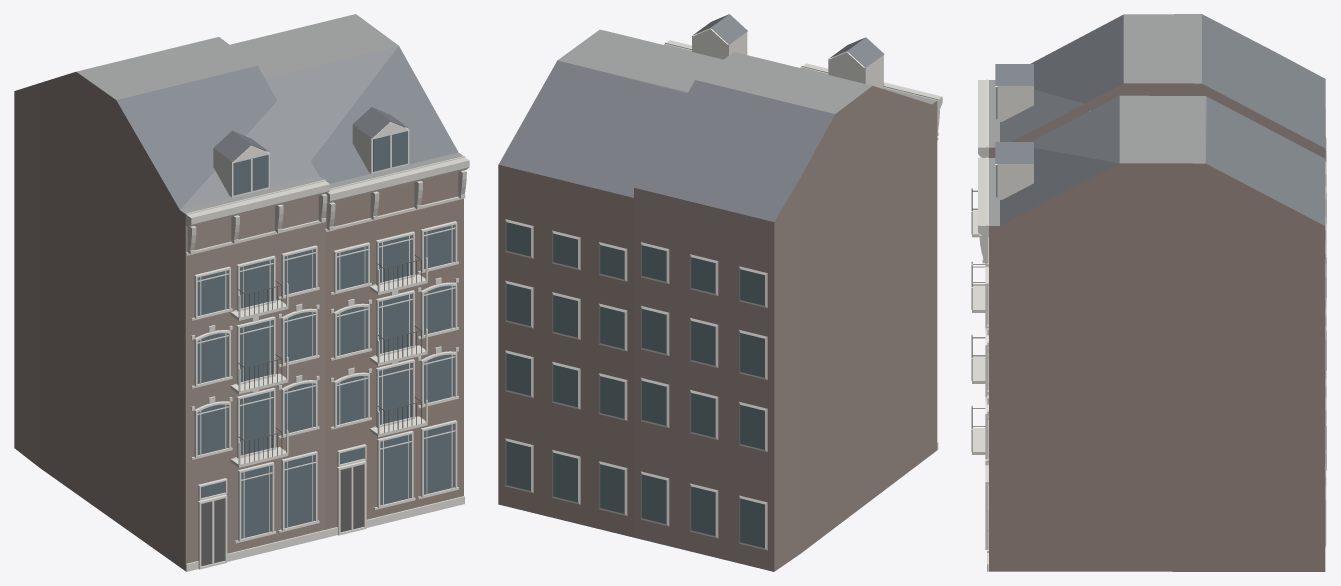
Rendered from chunk-face-helmers-40-60-r1.glb.
3 renders of one model, left to right at view 1: azimuth 30°, elevation 25°; view 2: azimuth 150°, elevation 25°; view 3: azimuth 270°, elevation 25°, orthographic. The views are drawn at different scales.
Visible parts, largest first — view 1: face-helmers-40-60-r1; view 2: face-helmers-40-60-r1; view 3: face-helmers-40-60-r1.
Part boxes in pixels (x1=…): face-helmers-40-60-r1: x1=14, y1=14, x2=469, y2=571; face-helmers-40-60-r1: x1=498, y1=14, x2=942, y2=571; face-helmers-40-60-r1: x1=971, y1=14, x2=1326, y2=571.
Size of the model in its own units: 11.9 by 16.97 by 12.99.
